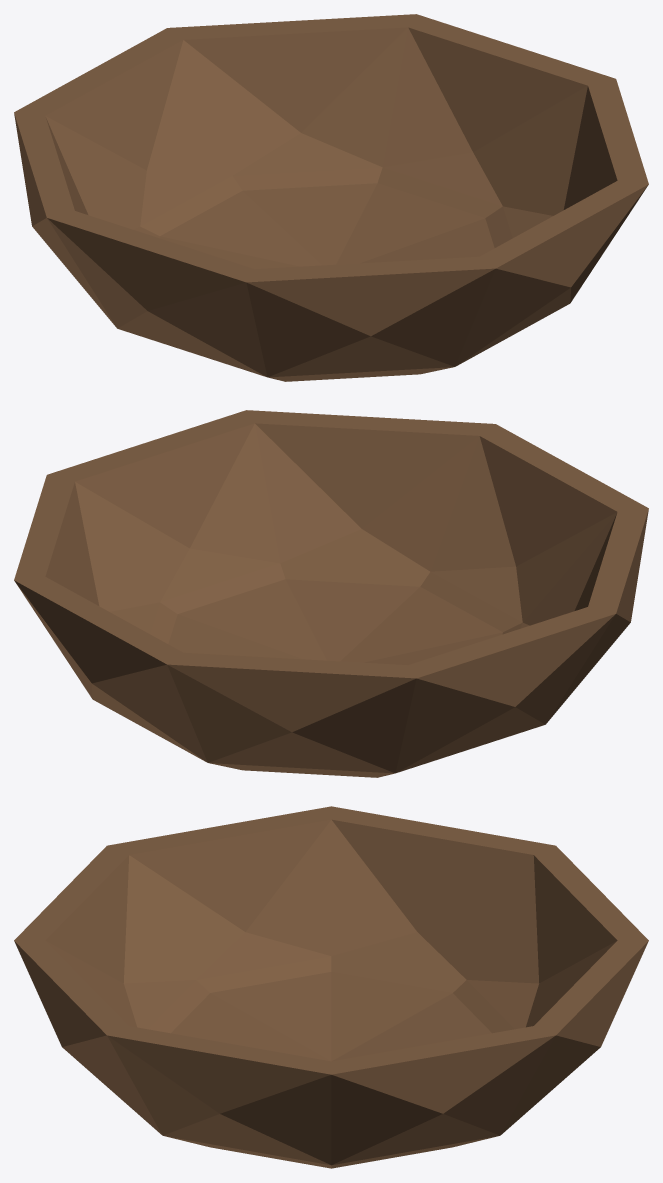
The model's file is kitchen_fruitbowl.fbx.
3 views of the same model, one above another, from view 1: azimuth 30°, elevation 25°; view 2: azimuth 150°, elevation 25°; view 3: azimuth 270°, elevation 25° (orthographic). The views are drawn at different scales.
Visible parts, largest first — view 1: kitchen_fruitbowl; view 2: kitchen_fruitbowl; view 3: kitchen_fruitbowl.
Boxes of the visible parts, bbox=[...] form: kitchen_fruitbowl: bbox=[14, 14, 648, 381]; kitchen_fruitbowl: bbox=[14, 410, 648, 777]; kitchen_fruitbowl: bbox=[14, 806, 648, 1168].
Bounding box in the file's own units: 51.17 × 13.83 × 51.17.
